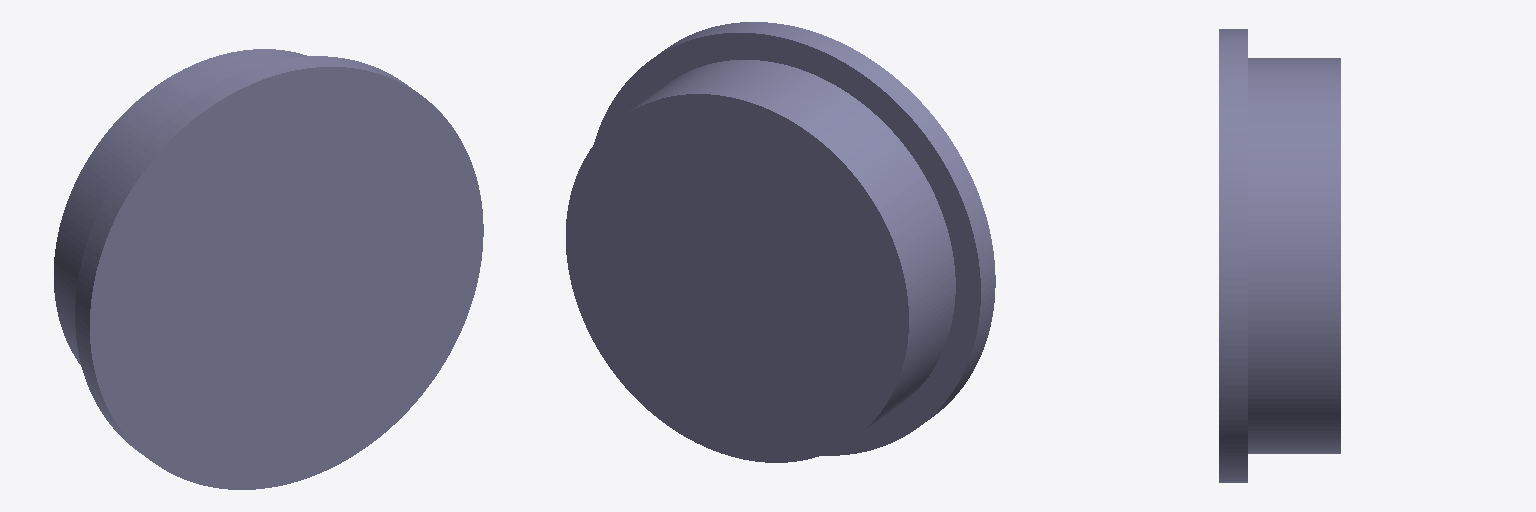
File: meshbody1_rviz.obj
3 views of the same model, side by side, from view 1: azimuth 30°, elevation 25°; view 2: azimuth 150°, elevation 25°; view 3: azimuth 270°, elevation 25° (orthographic).
Visible parts, largest first — view 1: meshbody1_rviz\Facets; view 2: meshbody1_rviz\Facets; view 3: meshbody1_rviz\Facets.
Boxes of the visible parts, x1,y1,x2,y2 form: meshbody1_rviz\Facets: [54, 49, 483, 489]; meshbody1_rviz\Facets: [566, 22, 995, 462]; meshbody1_rviz\Facets: [1219, 29, 1340, 482].
Bounding box in the file's own units: 1.09 × 1.09 × 0.2949.